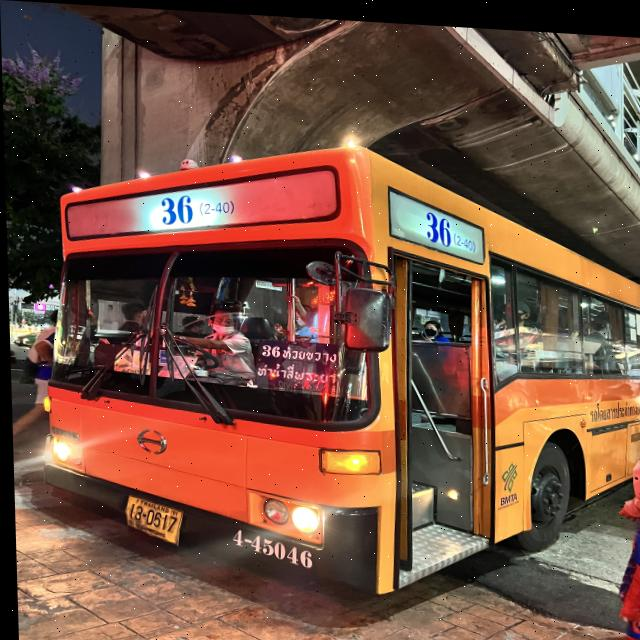BMTA-bus: (40, 144, 640, 598)
Bus Line Number: (142, 186, 245, 230)
Bus Side Number: (214, 523, 315, 568)
Destination Sign: (253, 337, 343, 393)
